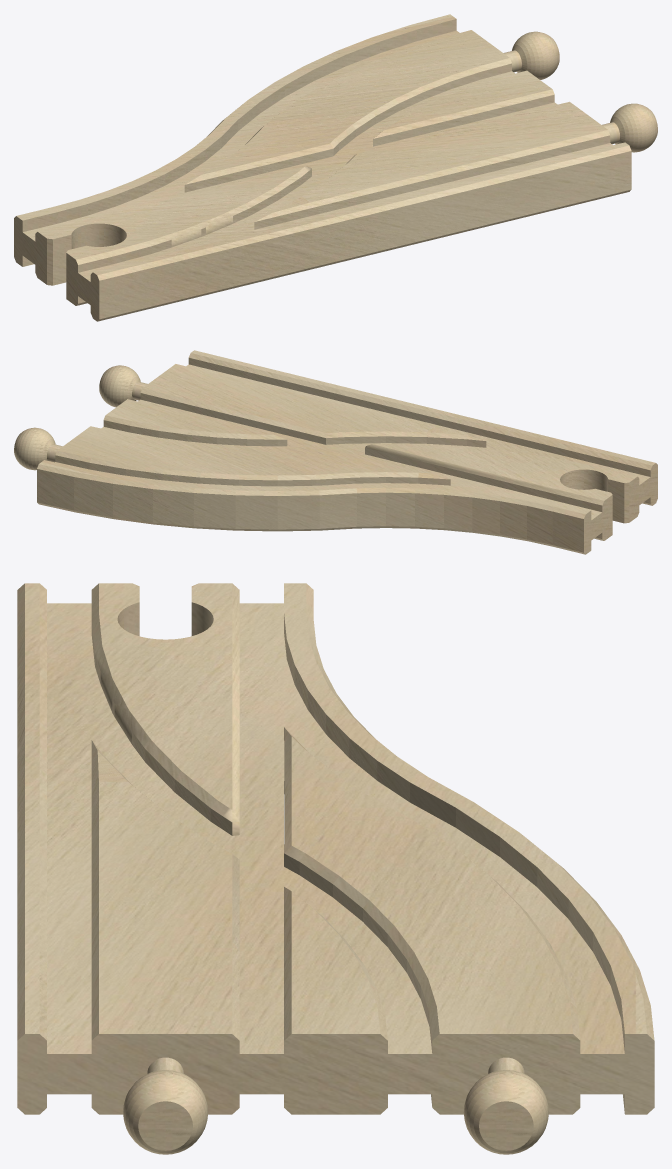
The picture shows the model from 3 angles, top to bottom: view 1: azimuth 30°, elevation 25°; view 2: azimuth 150°, elevation 25°; view 3: azimuth 270°, elevation 25°; orthographic projection. The views are drawn at different scales.
Visible parts, largest first — view 1: SketchUp, _3d_peg (×2); view 2: SketchUp, _3d_peg (×2); view 3: SketchUp, _3d_peg (×2).
Boxes of the visible parts, <box> form: SketchUp: <box>14,14,631,321</box>; _3d_peg (×2): <box>503,31,657,152</box>; SketchUp: <box>37,350,657,554</box>; _3d_peg (×2): <box>14,365,147,470</box>; SketchUp: <box>17,583,654,1114</box>; _3d_peg (×2): <box>123,1057,548,1154</box>.
Size of the model in its own units: 6.32 by 3.39 by 0.4724.
